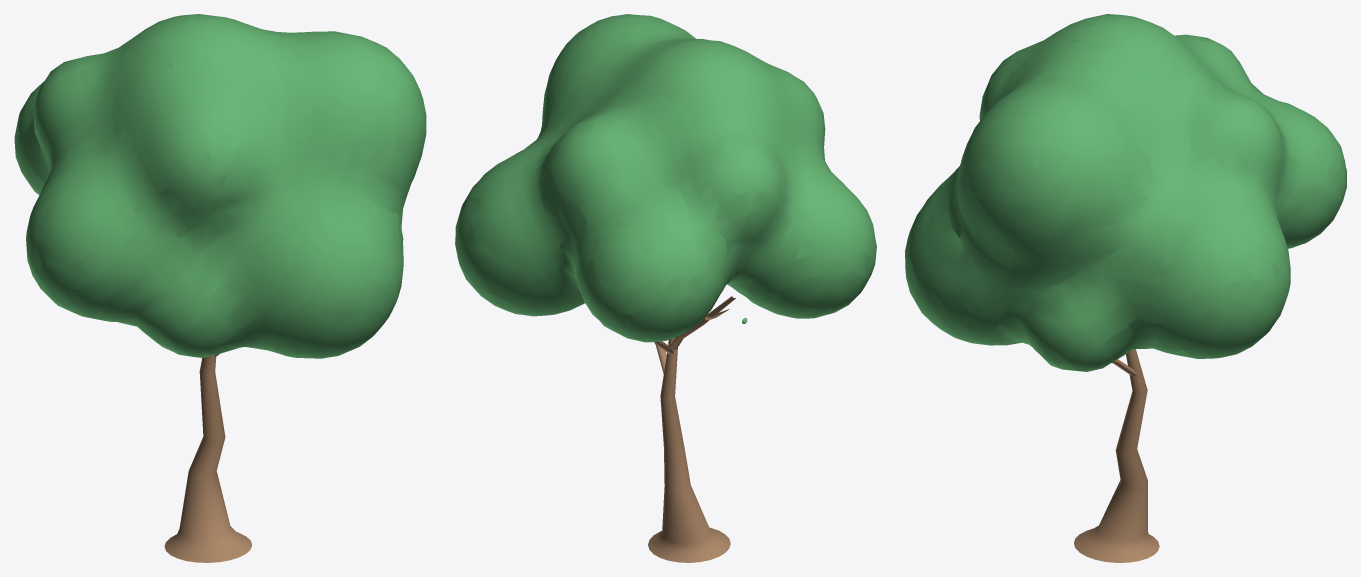
Rendered from Cartoon_Trees_Pack_Tree_2.glb.
3 views of the same model, side by side, from view 1: azimuth 30°, elevation 25°; view 2: azimuth 150°, elevation 25°; view 3: azimuth 270°, elevation 25° (orthographic). The views are drawn at different scales.
Visible parts, largest first — view 1: 02_Leaves, 01_Trunk; view 2: 02_Leaves, 01_Trunk; view 3: 02_Leaves, 01_Trunk.
Part boxes in pixels (bbox=[...]): 02_Leaves: bbox=[14, 14, 426, 358]; 01_Trunk: bbox=[164, 354, 251, 562]; 02_Leaves: bbox=[455, 14, 876, 342]; 01_Trunk: bbox=[648, 296, 735, 562]; 02_Leaves: bbox=[905, 14, 1346, 371]; 01_Trunk: bbox=[1074, 349, 1159, 562].
Size of the model in its own units: 7.34 by 10 by 7.74.
